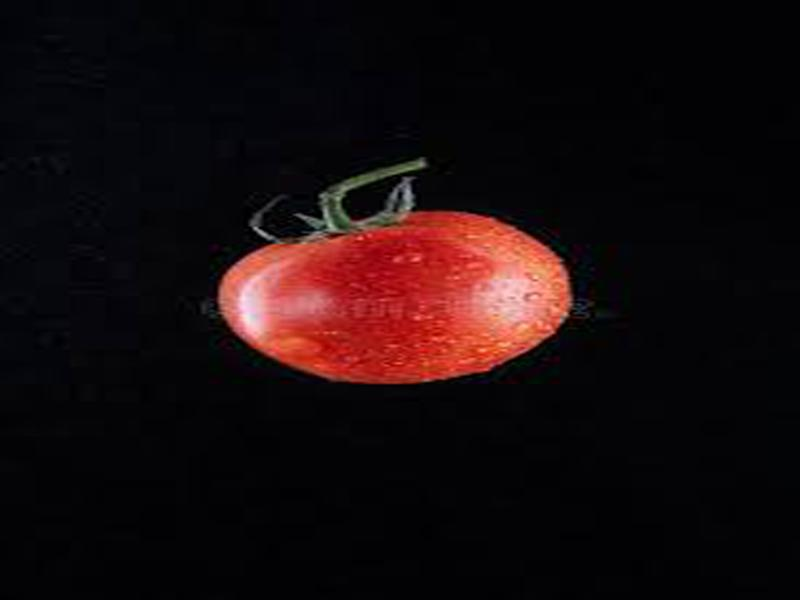Tomato: (219, 209, 573, 384)
